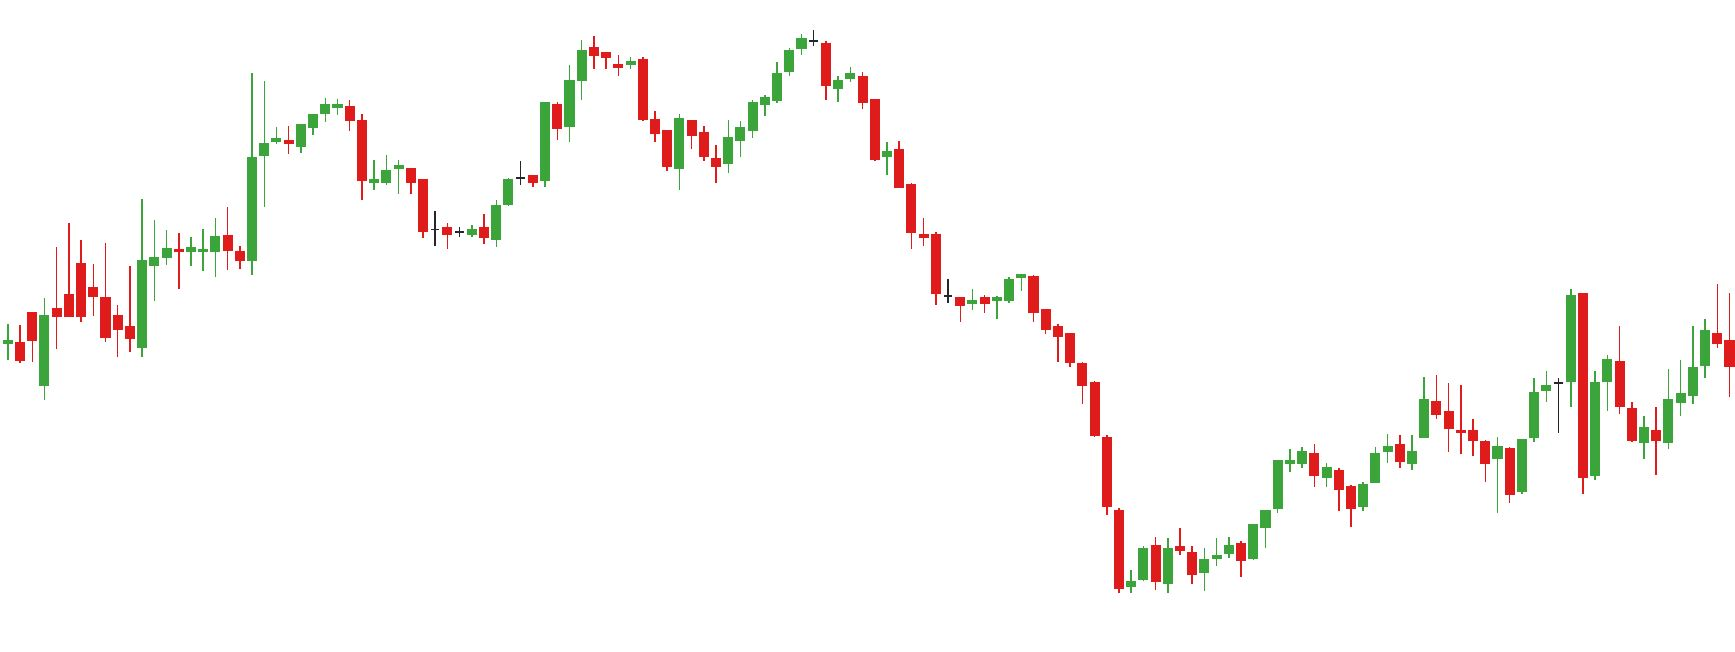buy: (1392, 417, 1530, 513)
